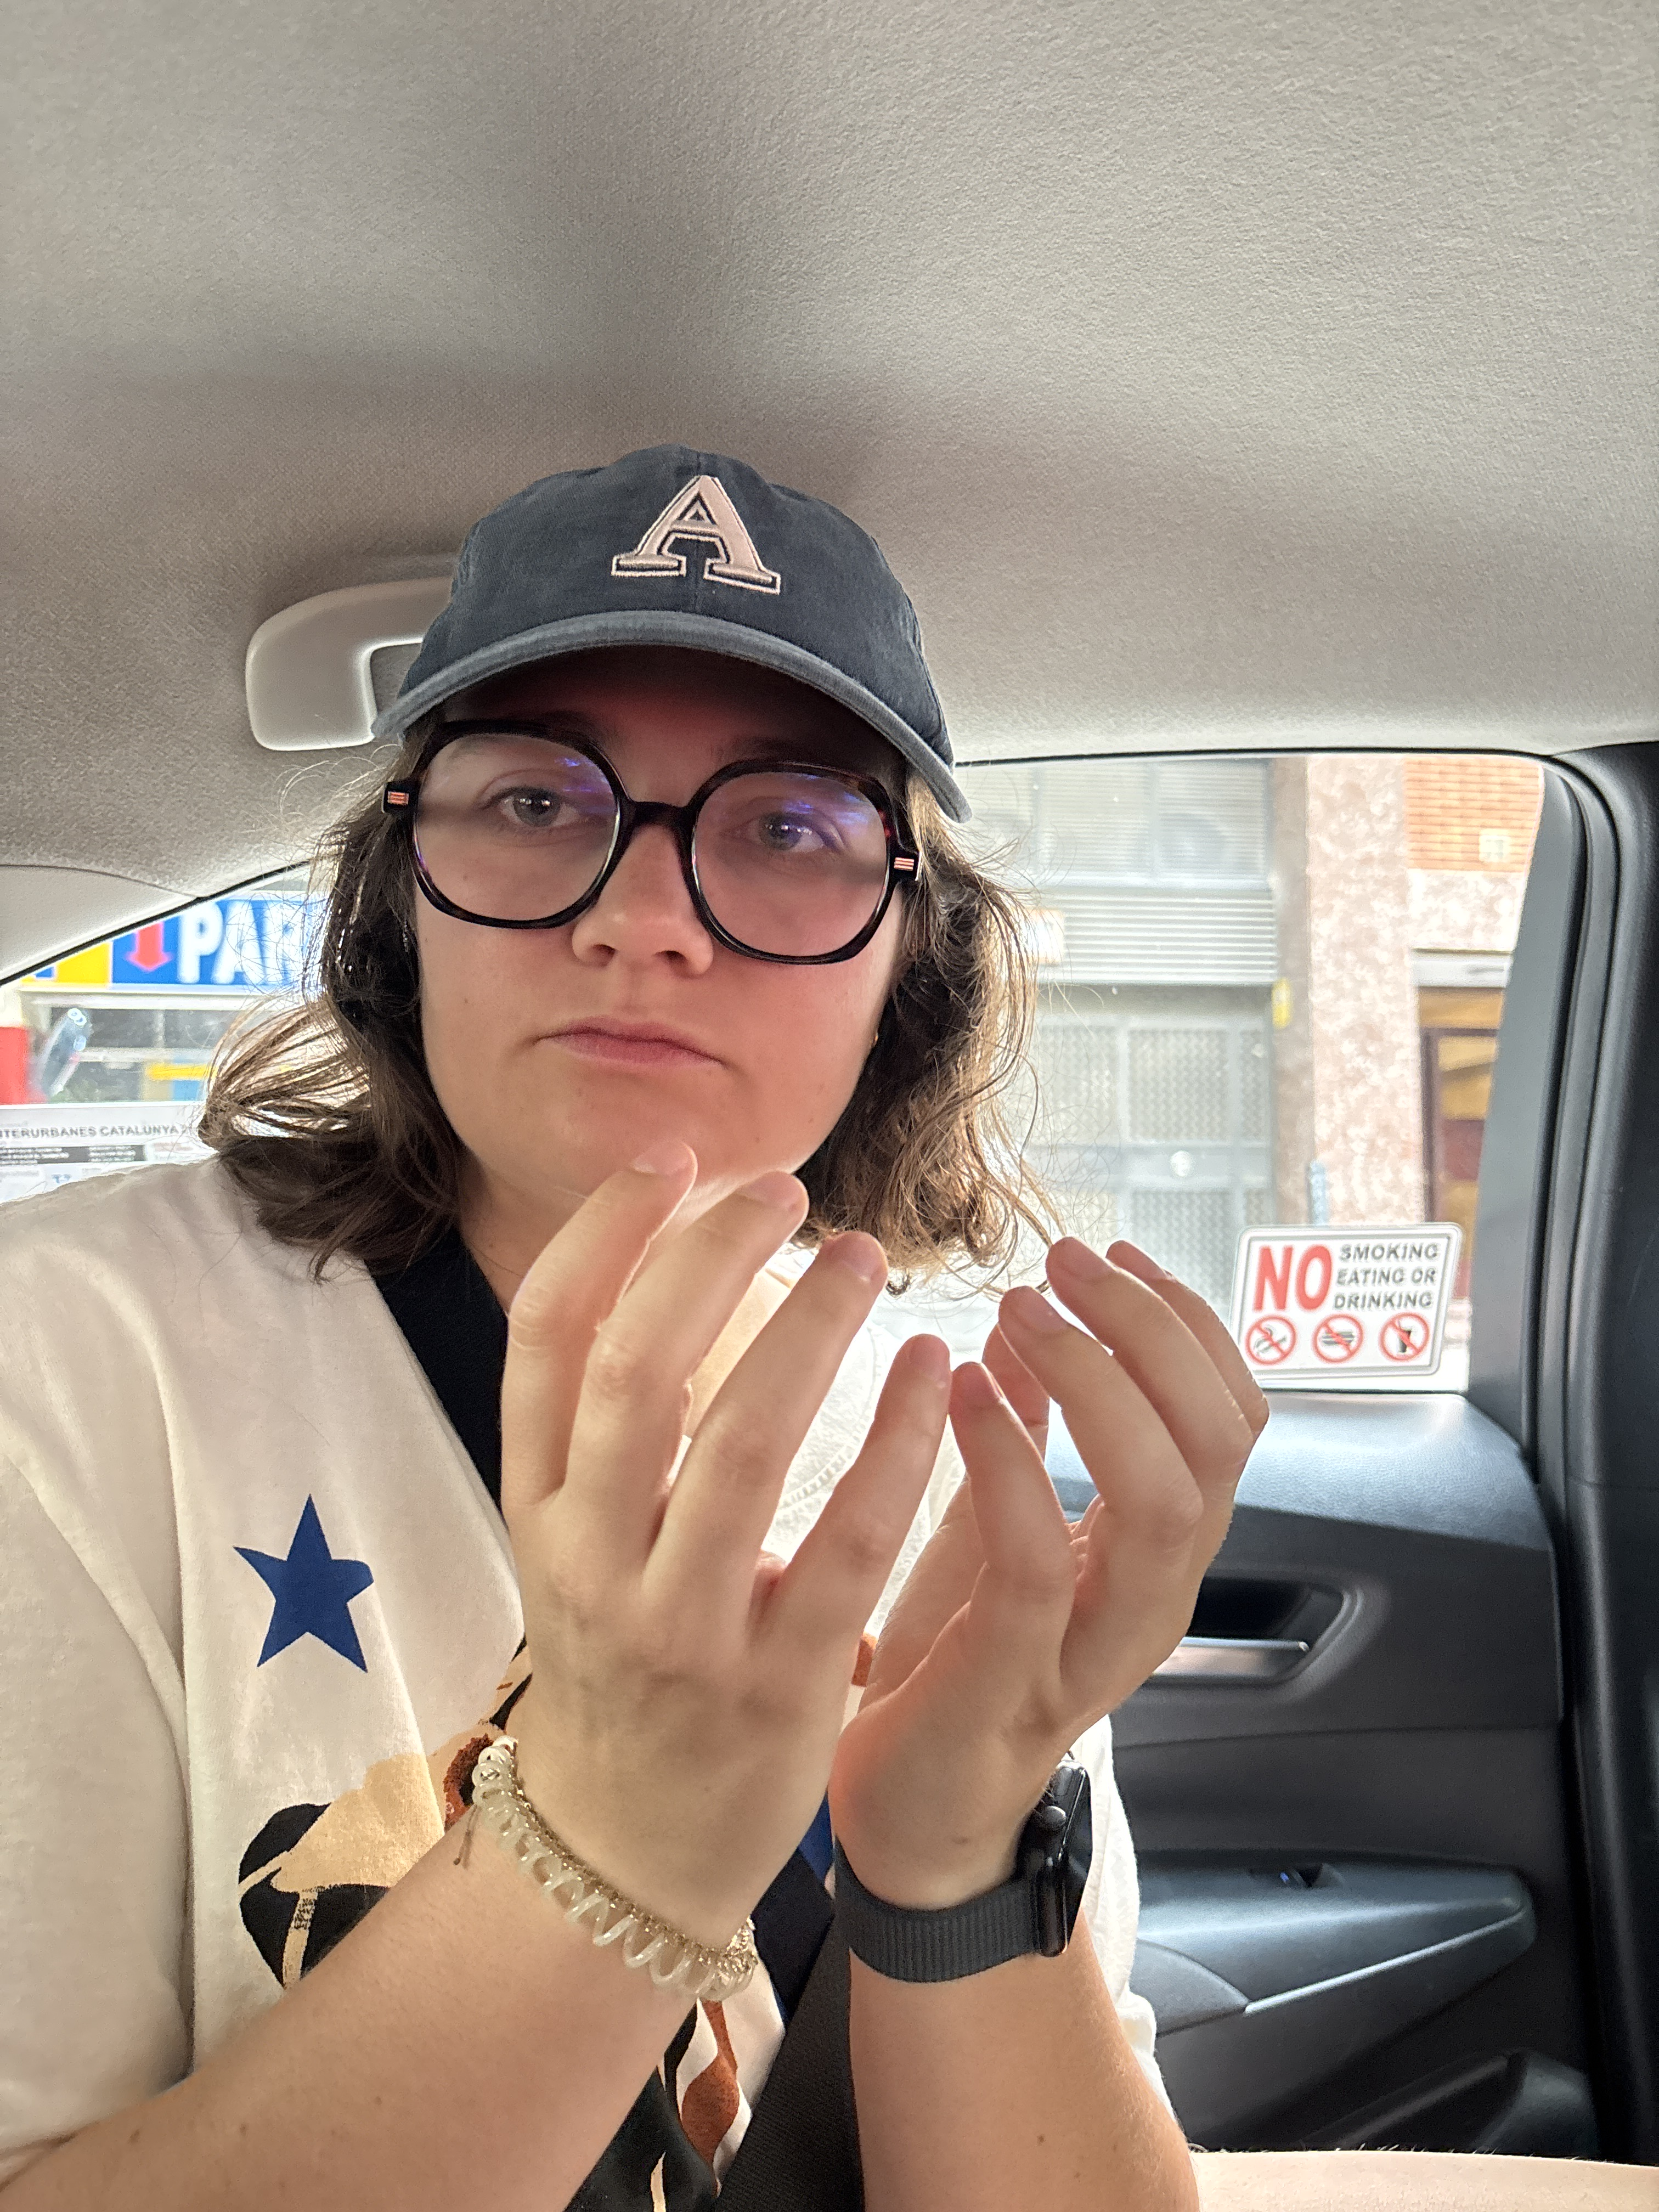group: (3, 441, 1276, 2205)
